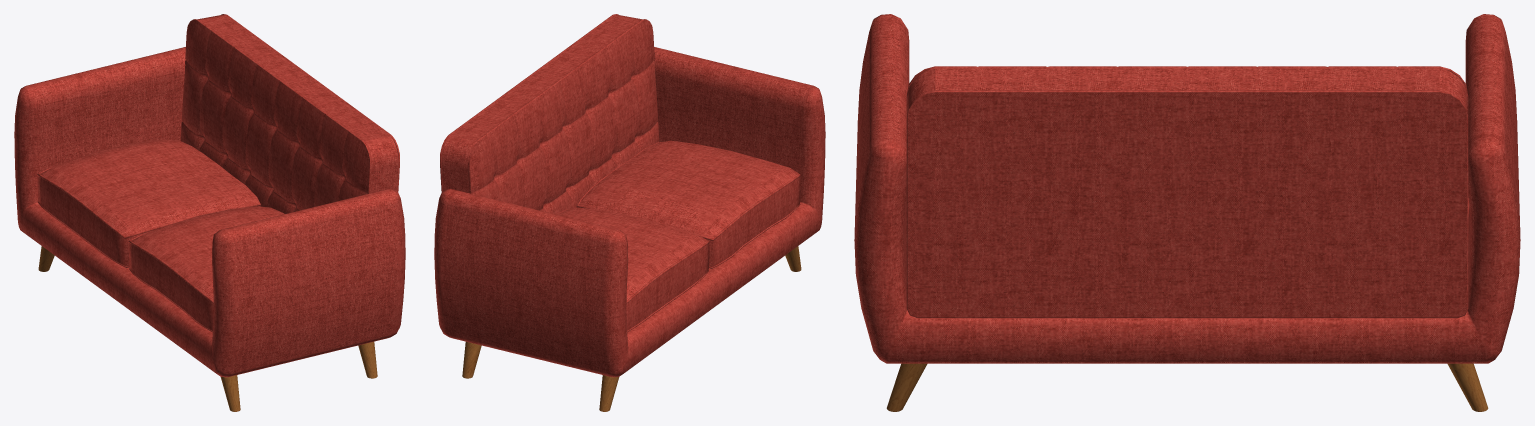
Rendered from Fabric_Sofa_2P.glb.
3 views of the same model, side by side, from view 1: azimuth 30°, elevation 25°; view 2: azimuth 150°, elevation 25°; view 3: azimuth 270°, elevation 25° (orthographic). The views are drawn at different scales.
Visible parts, largest first — view 1: Fabric_Sofa_2P_01_GEO; view 2: Fabric_Sofa_2P_01_GEO; view 3: Fabric_Sofa_2P_01_GEO.
Boxes of the visible parts, bbox=[...] form: Fabric_Sofa_2P_01_GEO: bbox=[14, 14, 405, 411]; Fabric_Sofa_2P_01_GEO: bbox=[434, 14, 825, 411]; Fabric_Sofa_2P_01_GEO: bbox=[854, 14, 1520, 411].
Bounding box in the file's own units: 0.5866 × 0.6494 × 1.14.
2 materials, 2 textured.
